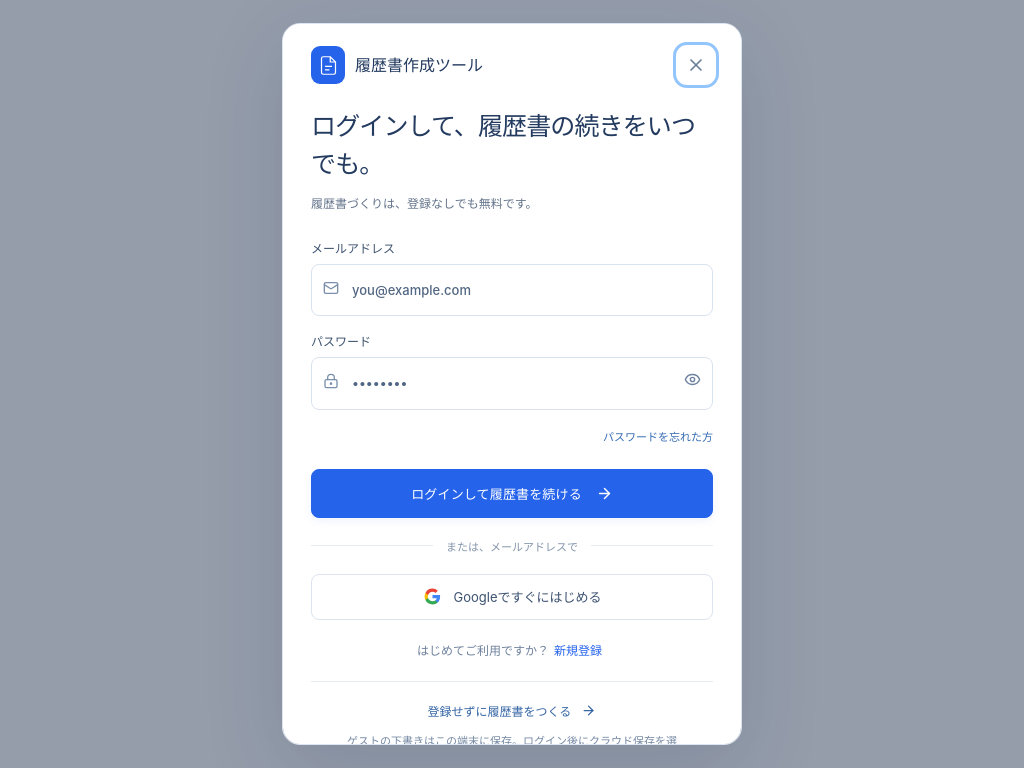
Test case: optional account authentication › shows a Japanese error without reporting login success
The width and height of the screenshot is (1024, 768).
Type "returning@example.test" into the field labelled "メールアドレス" at (512, 290), box [311,264,713,316]
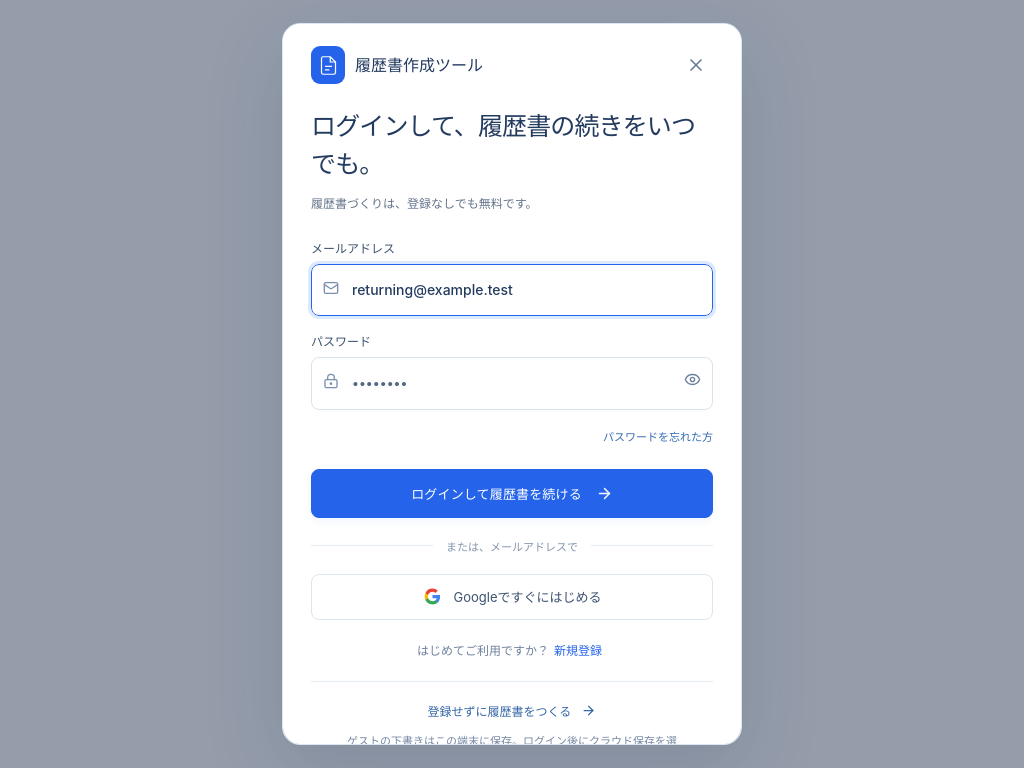
Type "wrong-password" into the password field labelled "パスワード" at (512, 384), box [311,357,713,410]
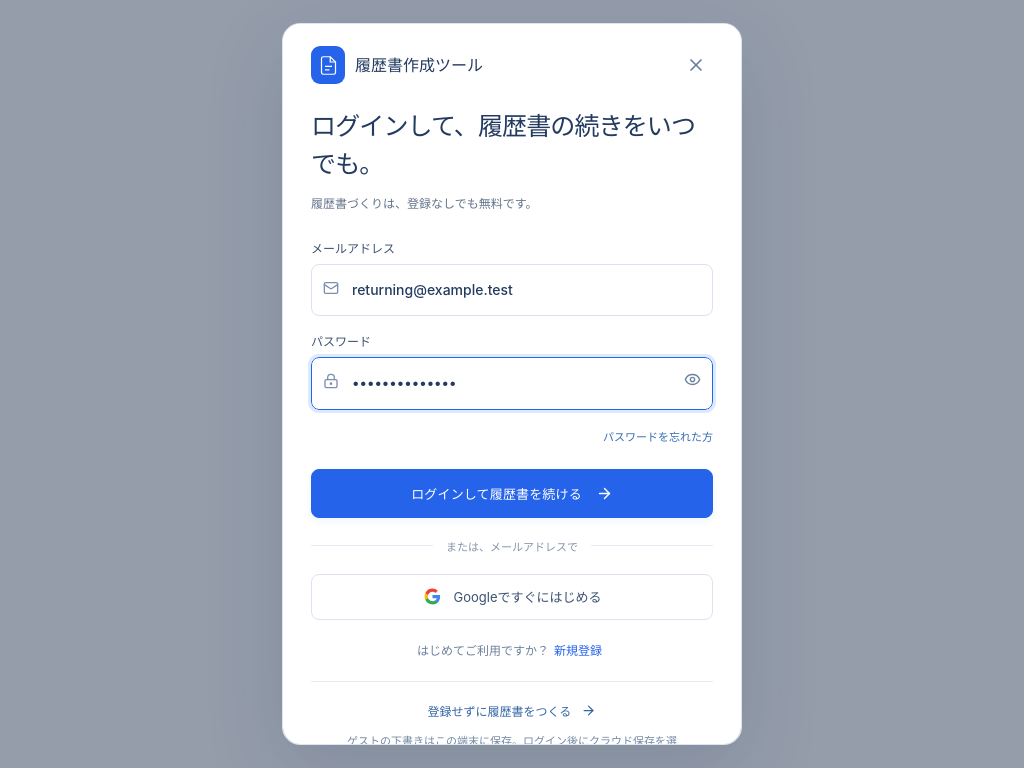
Click the button "ログインして履歴書を続ける" at (512, 493), box [311,469,713,518]
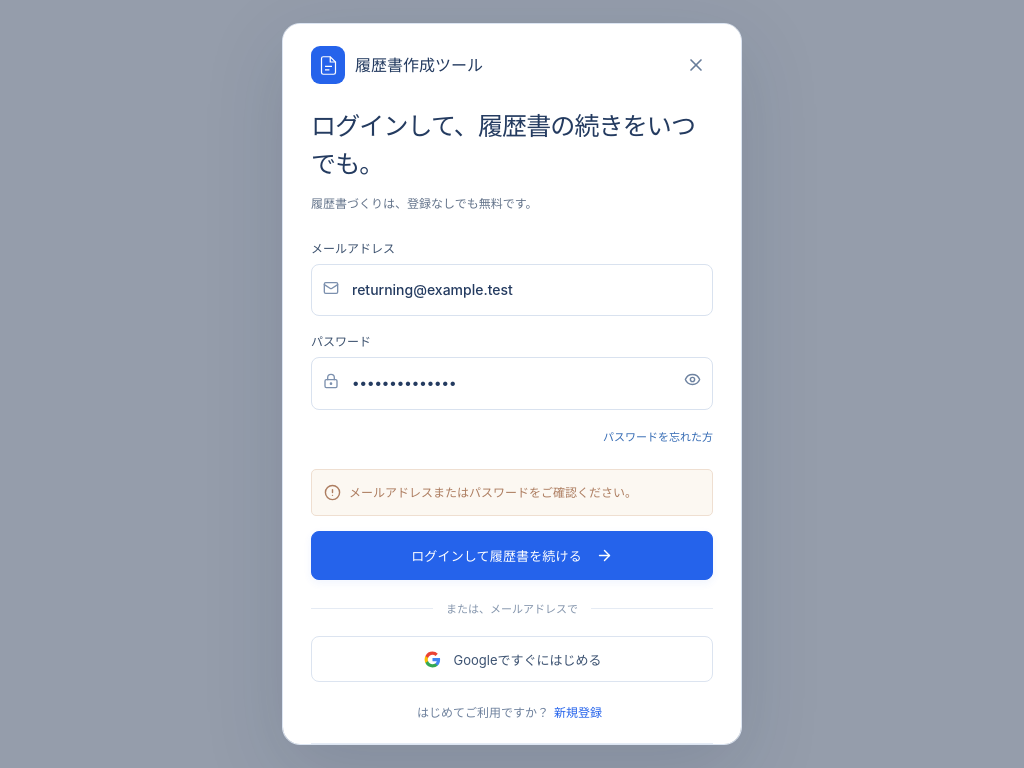
Result: the message reads "メールアドレスまたはパスワードをご確認ください。" at [349,485,637,500]
